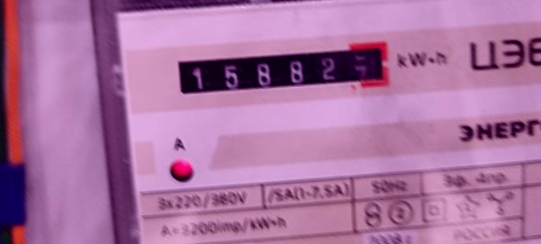1: (191, 65, 206, 91)
2: (320, 55, 337, 80)
5: (222, 62, 240, 89)
7: (354, 61, 369, 81)
8: (255, 61, 273, 88), (288, 58, 305, 84)
screen: (163, 33, 400, 109)
